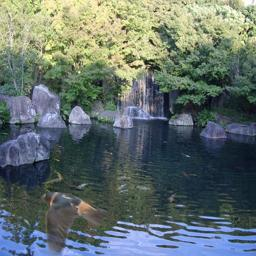Swallow: (41, 189, 110, 255)
